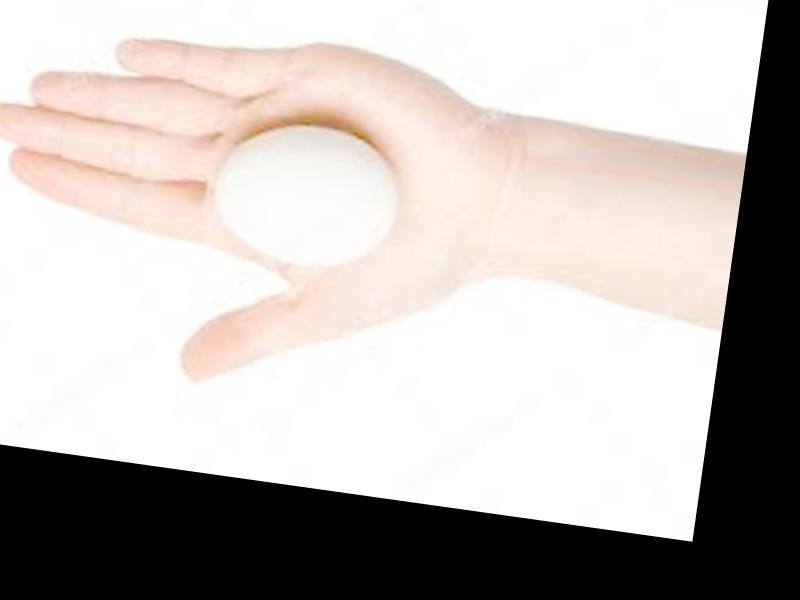Eggs: (206, 120, 404, 273)
